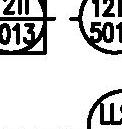instrumenttag: (1, 1, 48, 55), (78, 1, 121, 54), (87, 88, 121, 129)
